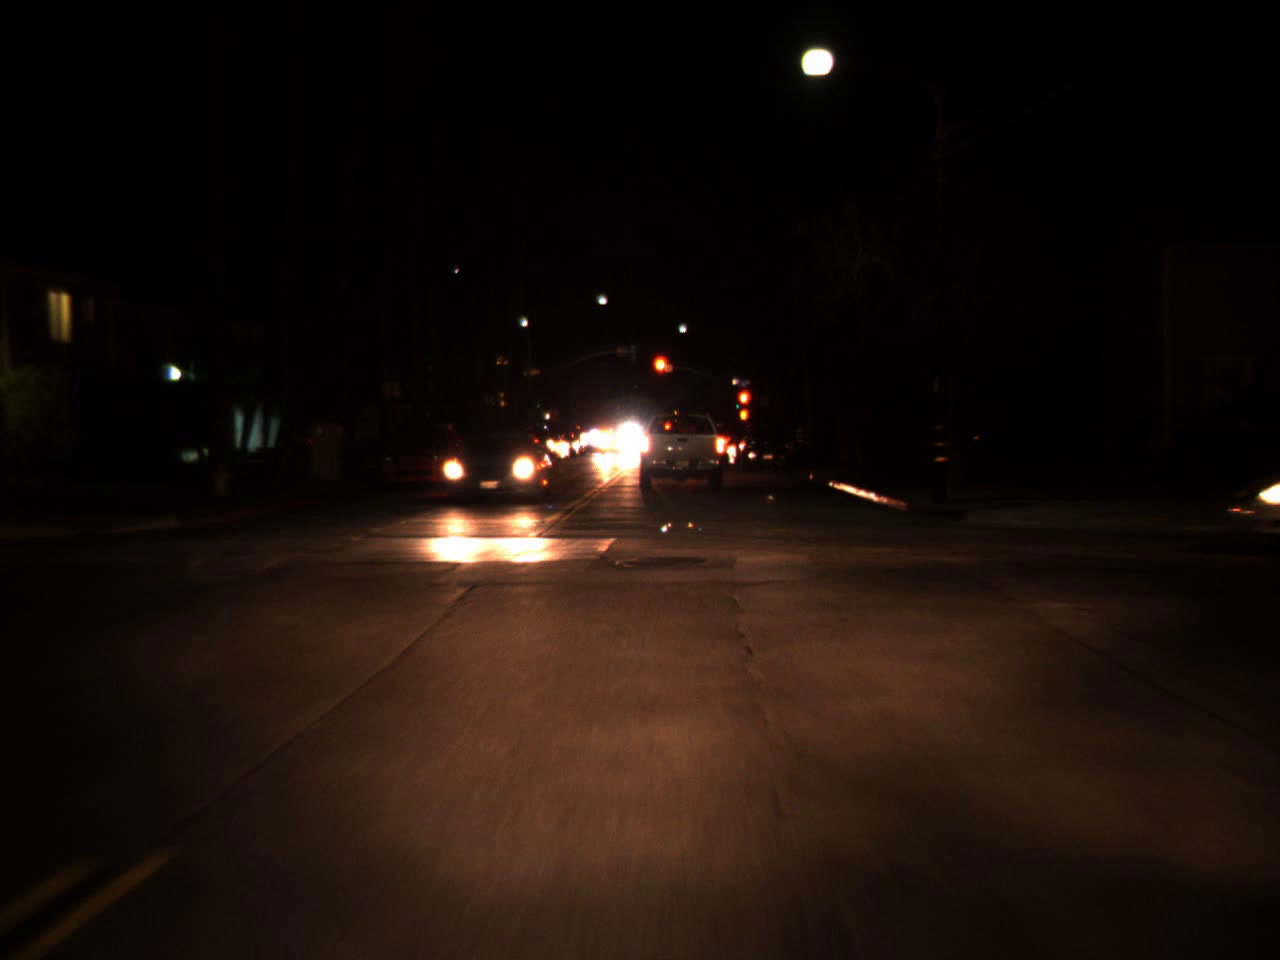stop: (650, 353, 672, 393), (735, 386, 753, 423)
